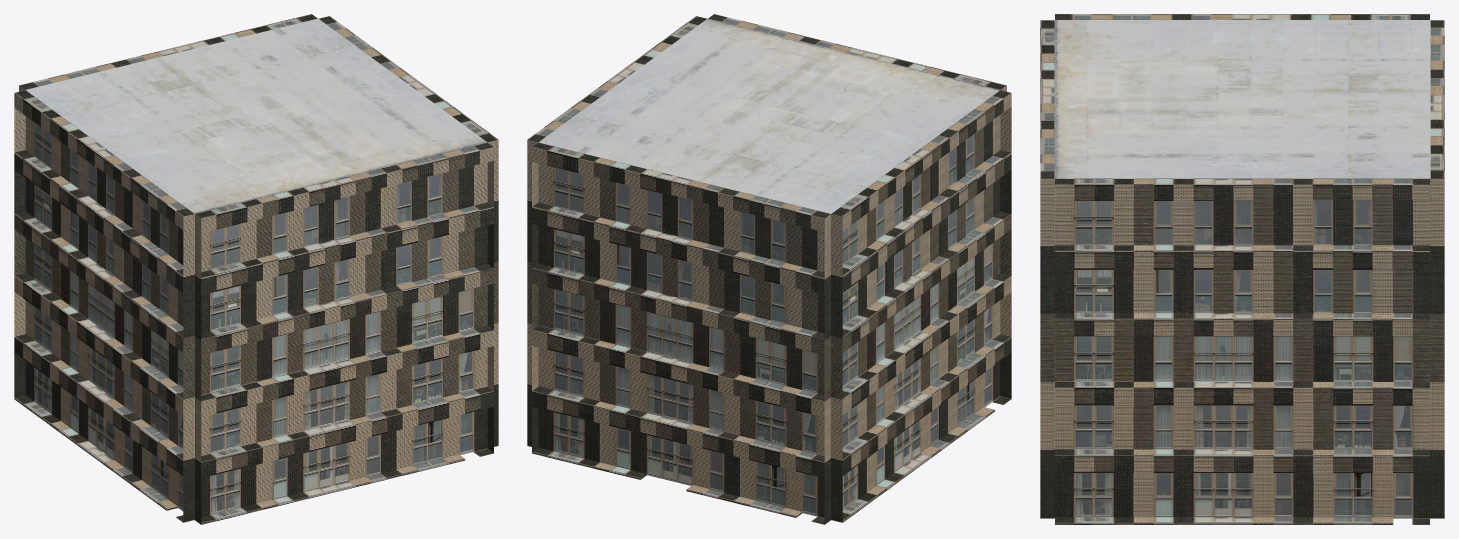
Rendered from BagSS04mid_200.fbx.
3 views of the same model, side by side, from view 1: azimuth 30°, elevation 25°; view 2: azimuth 150°, elevation 25°; view 3: azimuth 270°, elevation 25° (orthographic). The views are drawn at different scales.
Visible parts, largest first — view 1: midBox200, midMain200, midRoof200; view 2: midBox200, midMain200, midRoof200; view 3: midBox200, midMain200, midRoof200.
Boxes of the visible parts, x1,y1,x2,y2 form: midBox200: (25, 98, 487, 519); midMain200: (14, 14, 498, 524); midRoof200: (26, 18, 487, 213); midBox200: (538, 98, 1000, 519); midMain200: (527, 14, 1011, 524); midRoof200: (538, 18, 999, 213); midBox200: (1054, 178, 1430, 518); midMain200: (1040, 14, 1444, 524); midRoof200: (1054, 20, 1430, 178).
Size of the model in its own units: 22.1 by 20.51 by 22.1.
